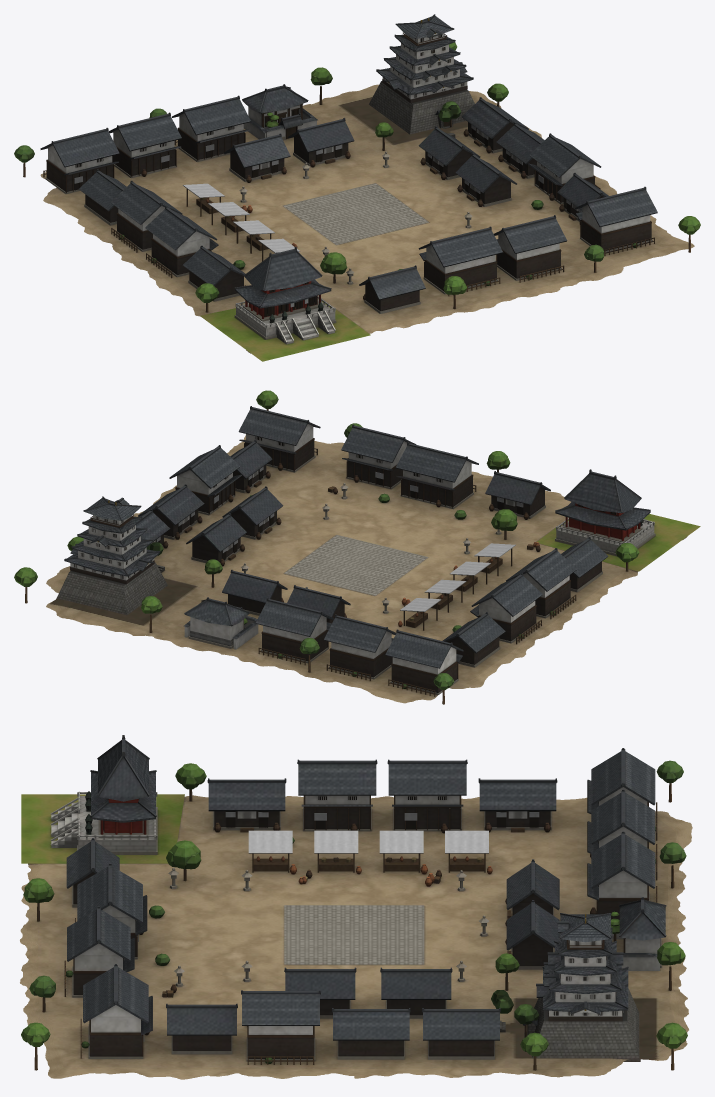
Rendered from gunpowder-town-medium-b-japan-3f3a91c1.glb.
3 renders of one model, top to bottom at view 1: azimuth 30°, elevation 25°; view 2: azimuth 150°, elevation 25°; view 3: azimuth 270°, elevation 25°, orthographic. The views are drawn at different scales.
Parts seen in each view (by area): view 1: LOD0; view 2: LOD0; view 3: LOD0.
Part boxes in pixels (x1,y1,x2,y2): LOD0: [14, 14, 700, 361]; LOD0: [14, 390, 700, 704]; LOD0: [20, 735, 692, 1079].
Size of what is drawn, in the model's own units: 6.03 by 1.2 by 6.09.
3 materials, 3 textured.
